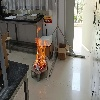fire: (35, 27, 49, 71)
